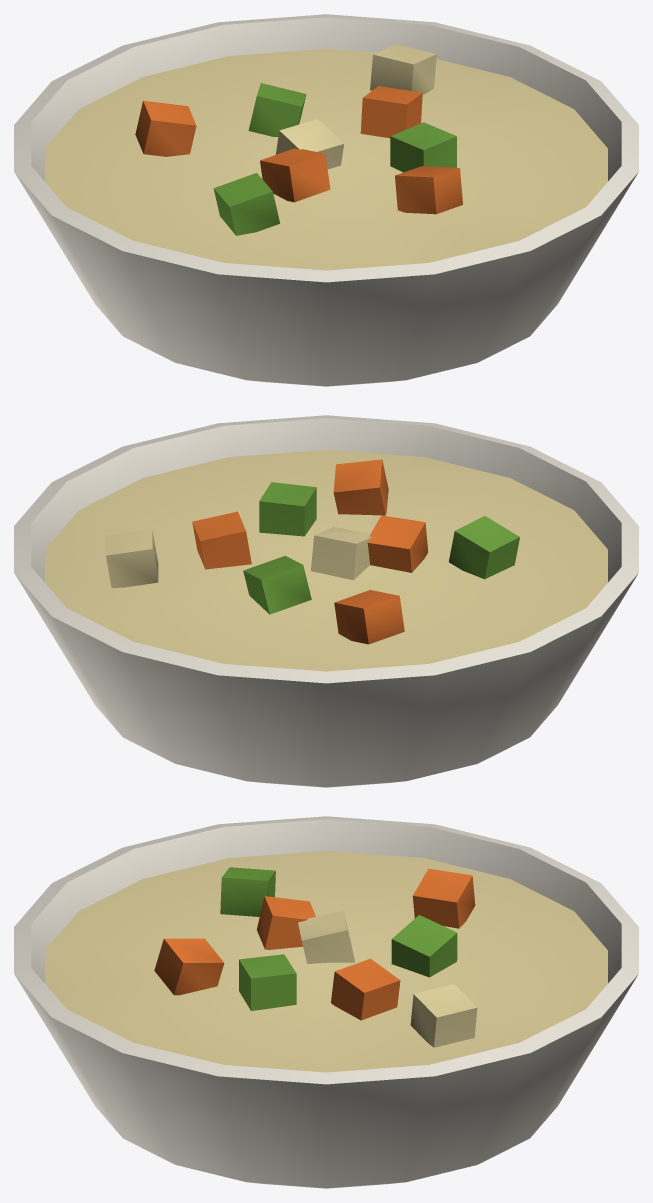
The model's file is prepBowl.glb.
3 renders of one model, top to bottom at view 1: azimuth 30°, elevation 25°; view 2: azimuth 150°, elevation 25°; view 3: azimuth 270°, elevation 25°, orthographic.
Visible parts, largest first — view 1: prepBowl; view 2: prepBowl; view 3: prepBowl.
Boxes of the visible parts, <box> form: prepBowl: <box>14,14,638,386</box>; prepBowl: <box>14,415,638,787</box>; prepBowl: <box>14,816,638,1188</box>.
Size of the model in its own units: 0.324 by 0.1036 by 0.3191.
